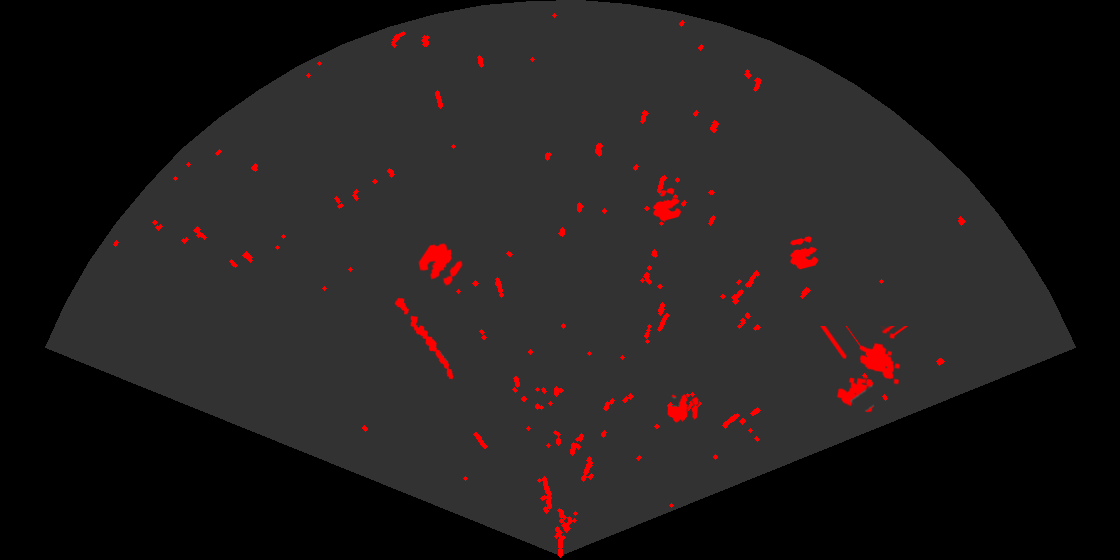ball: (417, 242, 464, 287), (651, 186, 683, 223), (788, 235, 820, 271), (666, 393, 700, 424)
cage: (819, 326, 910, 414)
chain: (393, 296, 455, 381)
